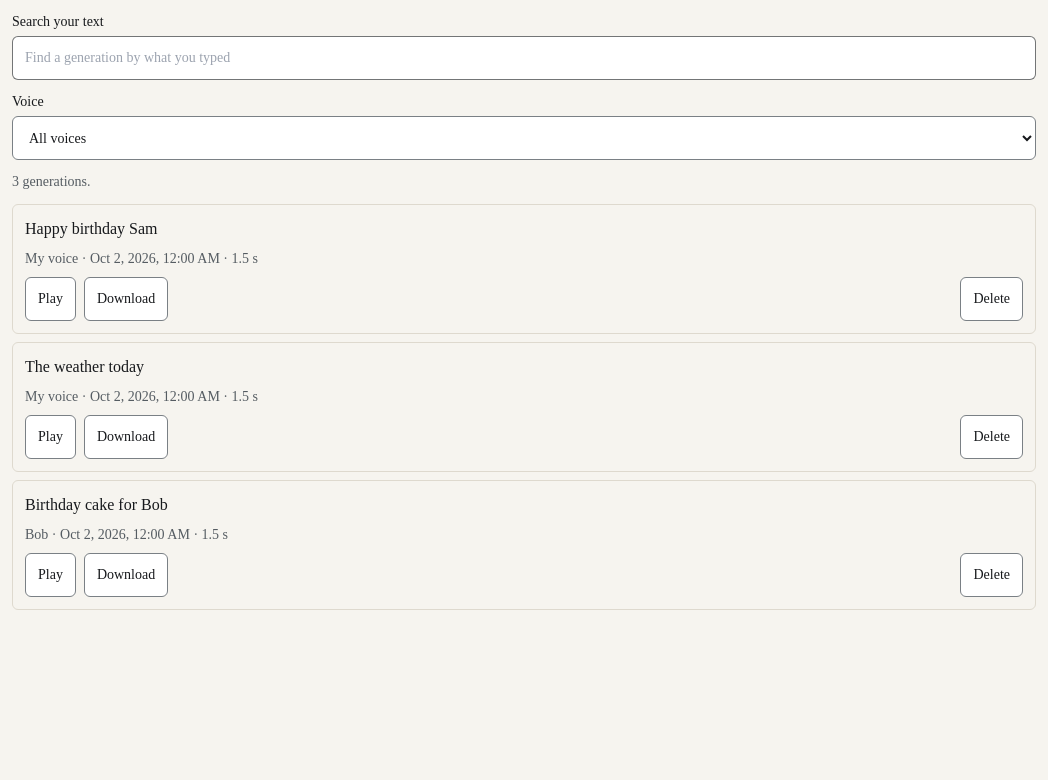
Test: History search › narrows the list and says how many matched
Expected: the text "The weather today" is shown, [25,358,144,375]
Type "birthday" into the search field labelled "Search your text" at (524, 58), box [12,36,1036,80]
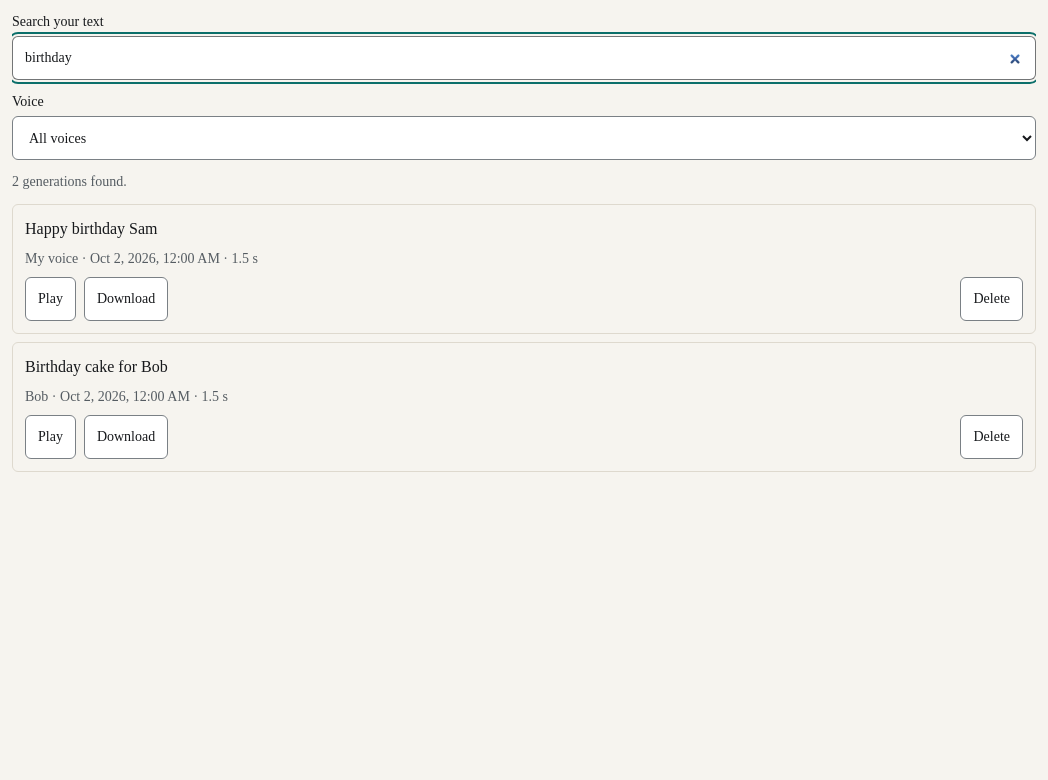
Expected: the text "Happy birthday Sam" is shown, [25,220,157,237]
Now the text "The weather today" is gone
Now the text "2 generations found." is shown, box [12,174,127,189]
